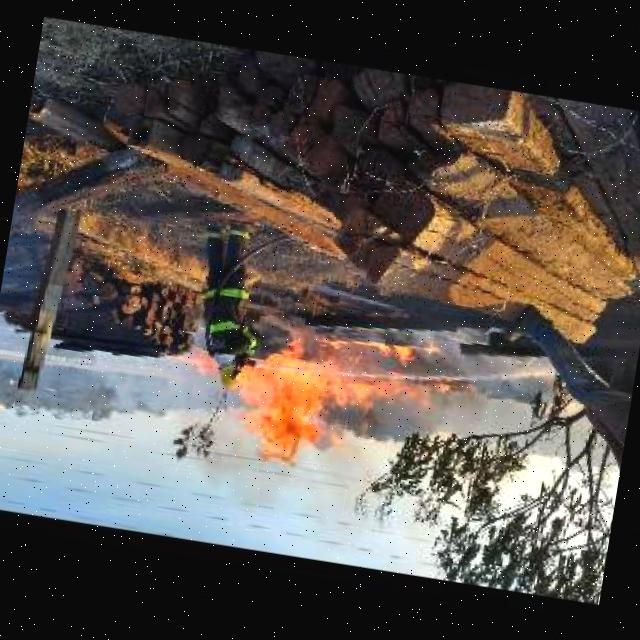fire: (178, 347, 426, 479), (323, 332, 437, 364)
